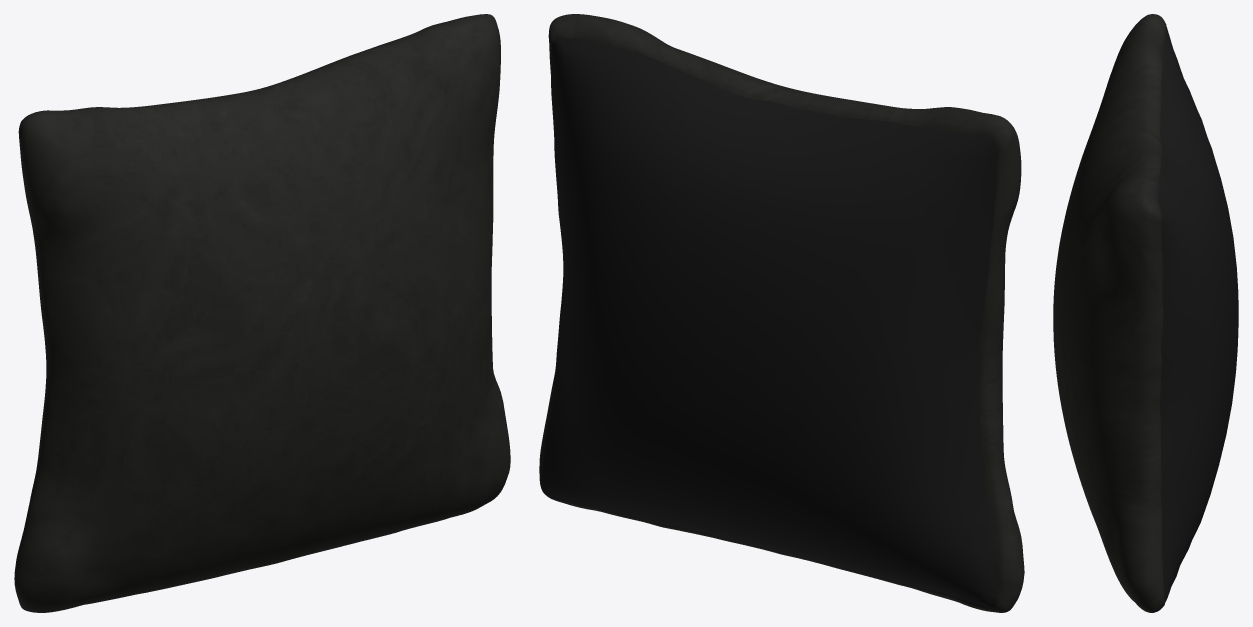
File: B07C8WMTZM.glb
3 renders of one model, left to right at view 1: azimuth 30°, elevation 25°; view 2: azimuth 150°, elevation 25°; view 3: azimuth 270°, elevation 25°, orthographic. The views are drawn at different scales.
Visible parts, largest first — view 1: RootNode; view 2: RootNode; view 3: RootNode.
Boxes of the visible parts, left/top/right/bottom form: RootNode: left=14, top=14, right=510, bottom=612; RootNode: left=539, top=14, right=1024, bottom=612; RootNode: left=1053, top=14, right=1238, bottom=612.
Bounding box in the file's own units: 0.533 × 0.5227 × 0.2096.
Materials: 1 (1 with a texture image).
